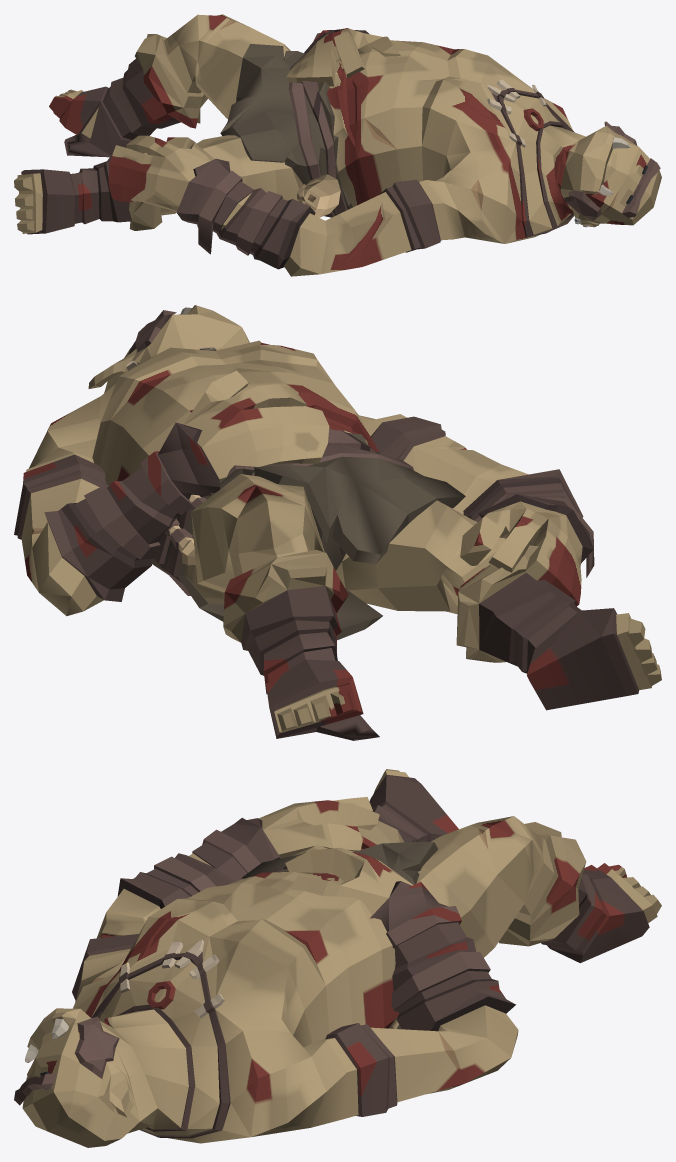
The model's file is prop_dead_troll.gltf.
3 views of the same model, one above another, from view 1: azimuth 30°, elevation 25°; view 2: azimuth 150°, elevation 25°; view 3: azimuth 270°, elevation 25° (orthographic). The views are drawn at different scales.
Parts seen in each view (by area): view 1: prop_dead_troll; view 2: prop_dead_troll; view 3: prop_dead_troll.
Part boxes in pixels (x1,y1,x2,y2): prop_dead_troll: [14, 14, 661, 276]; prop_dead_troll: [14, 305, 661, 740]; prop_dead_troll: [14, 769, 661, 1147].
Size of the model in its own units: 4.08 by 1.13 by 3.5.
1 material, 1 textured.
